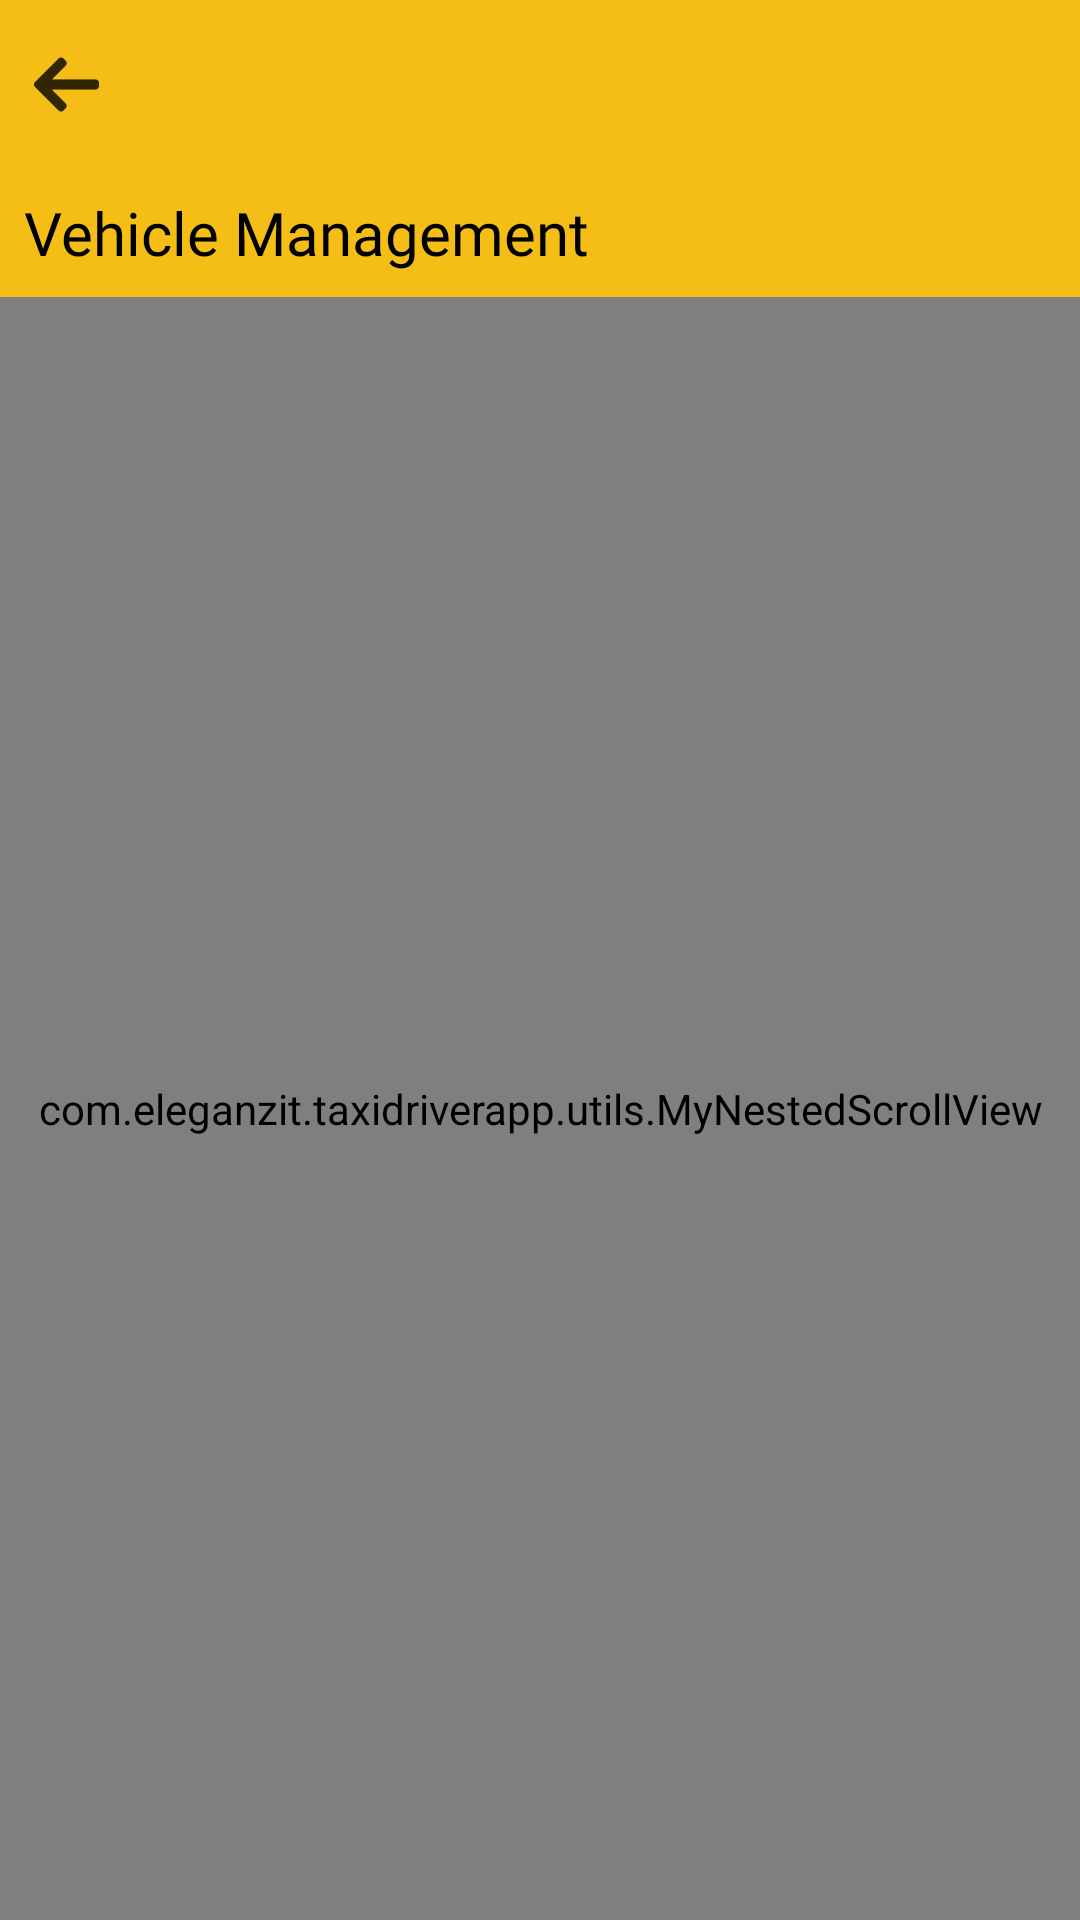

Screen size 1080px x 1920px. Icon name, then its center in pixels as (x=x, y=y):
back: (x=66, y=84)
